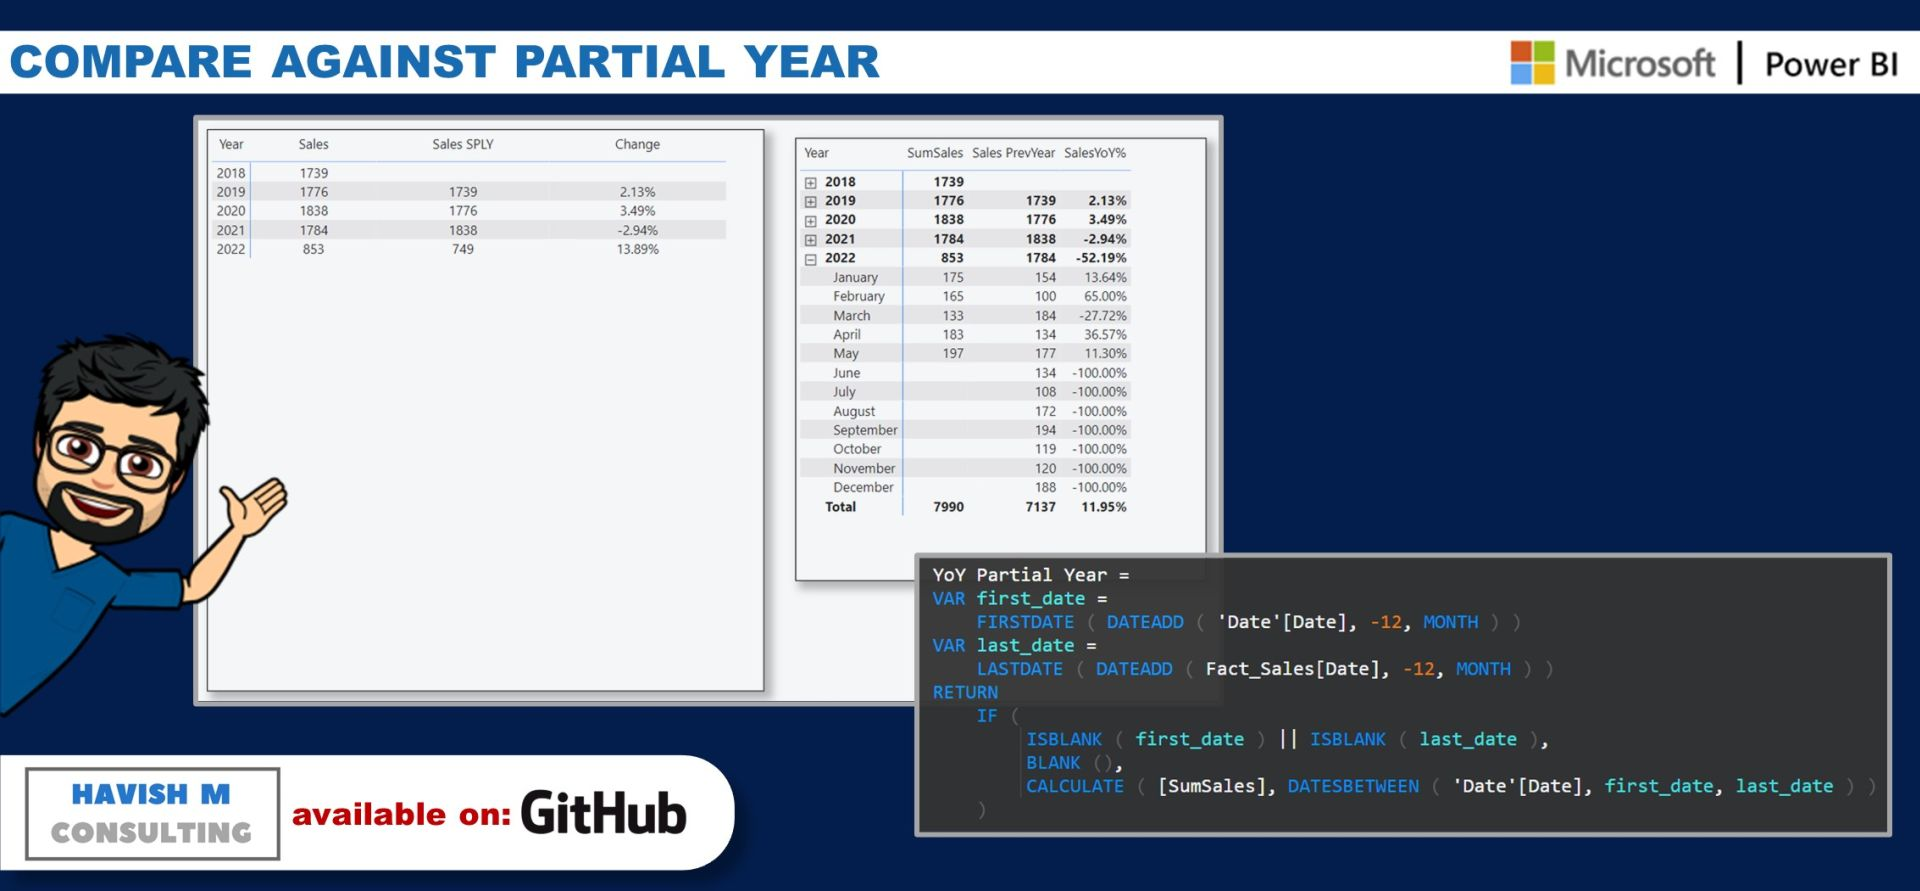

The page's visual inventory and layout, read from the dashboard file:
{"tool":"powerbi","page":{"name":"Page 1","canvas":[1280,720],"ordinal":0},"visuals":[{"type":"pivotTable","fields":{"Rows":["Date.Date.Variation.Date Hierarchy.Year","Date.Date.Variation.Date Hierarchy.Month"],"Values":["Date.SumSales","Date.YoY","Date.YoY Change"]},"box":[35,28,502.4,662.5],"z":0},{"type":"pivotTable","fields":{"Rows":["Date.Date.Variation.Date Hierarchy.Year","Date.Date.Variation.Date Hierarchy.Month"],"Values":["Date.SumSales","Date.YoY Partial Year","Date.YoY Partial Year Change"]},"box":[546.3,27.8,726.3,662.7],"z":1}]}

Visuals, with their boxes on the page's 1280x720 design canvas (x1, y1, x2, y2). These are canvas units, not pixel positions in the 1920x891 screenshot, which may show the page scaled, cropped or inside an application window:
pivotTable - Date.Date.Variation.Date Hierarchy.Year x Date.Date.Variation.Date Hierarchy.Month: 35, 28, 537, 690
pivotTable - Date.Date.Variation.Date Hierarchy.Year x Date.Date.Variation.Date Hierarchy.Month: 546, 28, 1273, 690
